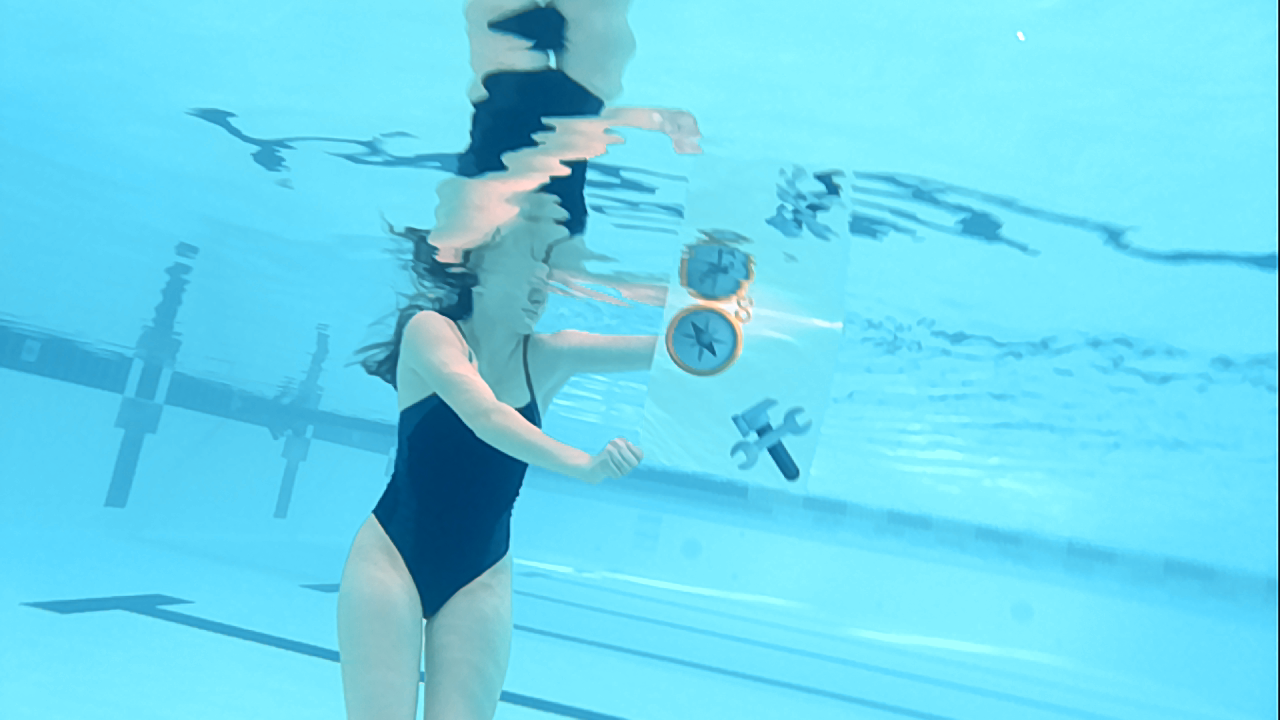compass_hammer: (662, 303, 817, 493)
